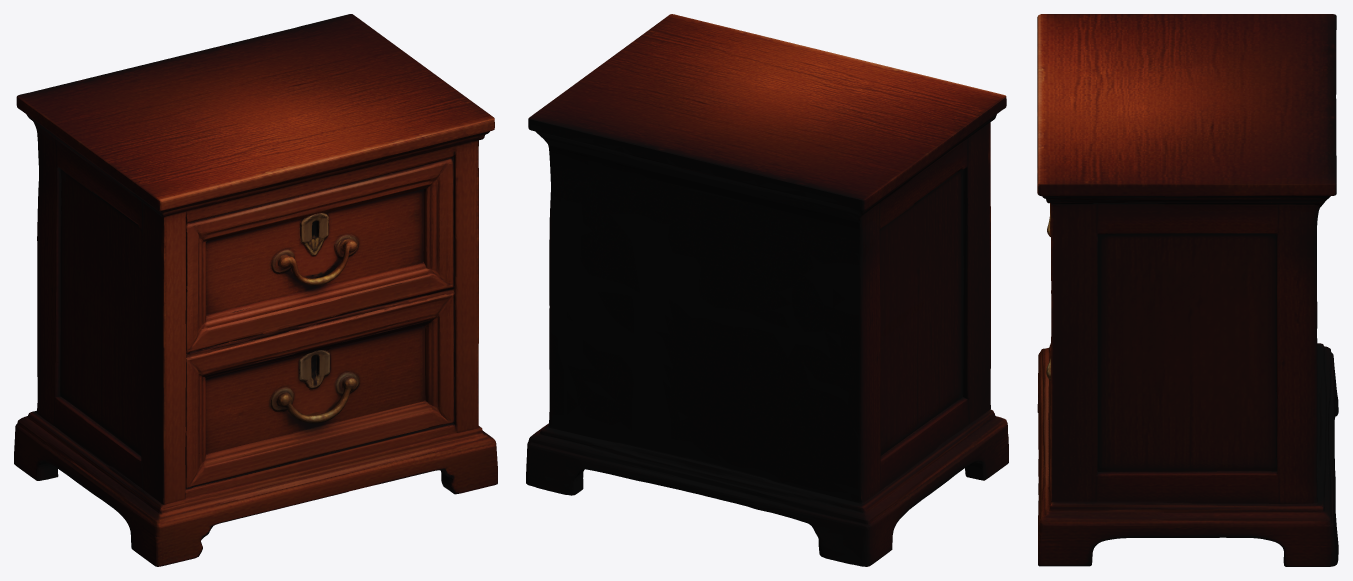
The model's file is cabinet_wooden.glb.
3 views of the same model, side by side, from view 1: azimuth 30°, elevation 25°; view 2: azimuth 150°, elevation 25°; view 3: azimuth 270°, elevation 25° (orthographic). The views are drawn at different scales.
Parts seen in each view (by area): view 1: world; view 2: world; view 3: world.
Boxes of the visible parts, left/top/right/bottom form: world: left=14, top=14, right=497, bottom=566; world: left=526, top=14, right=1008, bottom=566; world: left=1037, top=14, right=1338, bottom=566.
Bounding box in the file's own units: 0.9853 × 1 × 0.7181.
1 material, 1 textured.
